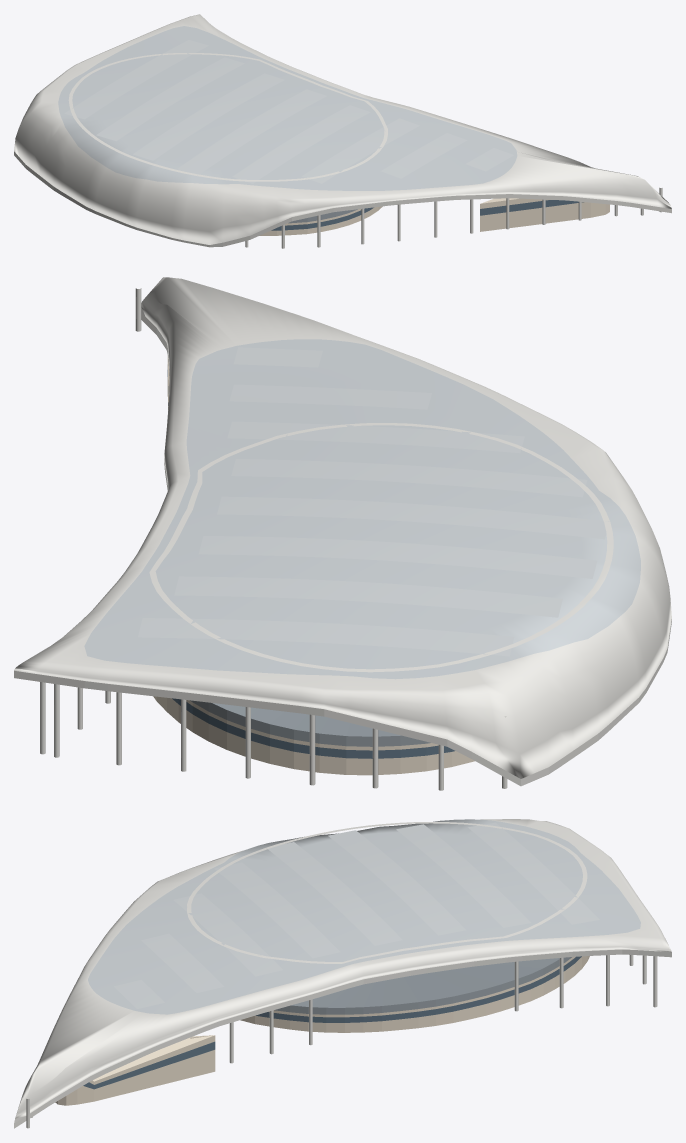
3 views of the same model, one above another, from view 1: azimuth 30°, elevation 25°; view 2: azimuth 150°, elevation 25°; view 3: azimuth 270°, elevation 25° (orthographic). The views are drawn at different scales.
Visible parts, largest first — view 1: sofi-stadium; view 2: sofi-stadium; view 3: sofi-stadium.
Boxes of the visible parts, x1,y1,x2,y2 form: sofi-stadium: (14, 14, 671, 248); sofi-stadium: (14, 277, 671, 790); sofi-stadium: (14, 819, 671, 1128).
Size of the model in its own units: 440 by 56.96 by 472.
